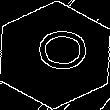O_W: (25, 32, 85, 78)
